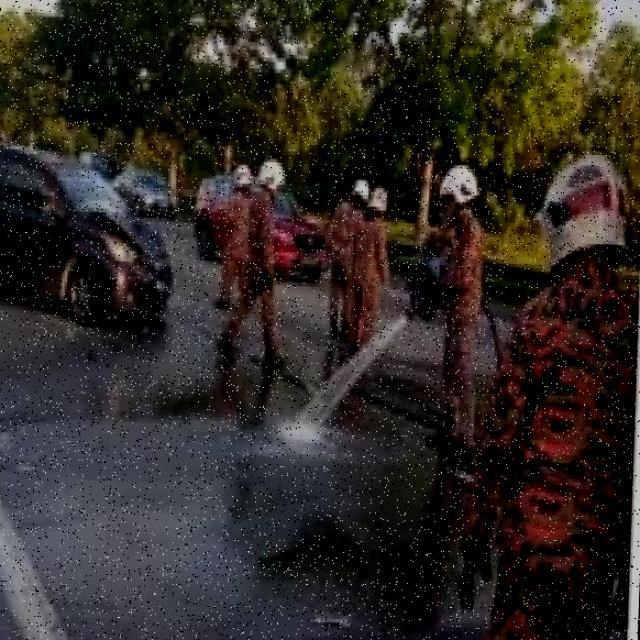accident: (41, 150, 192, 343)
